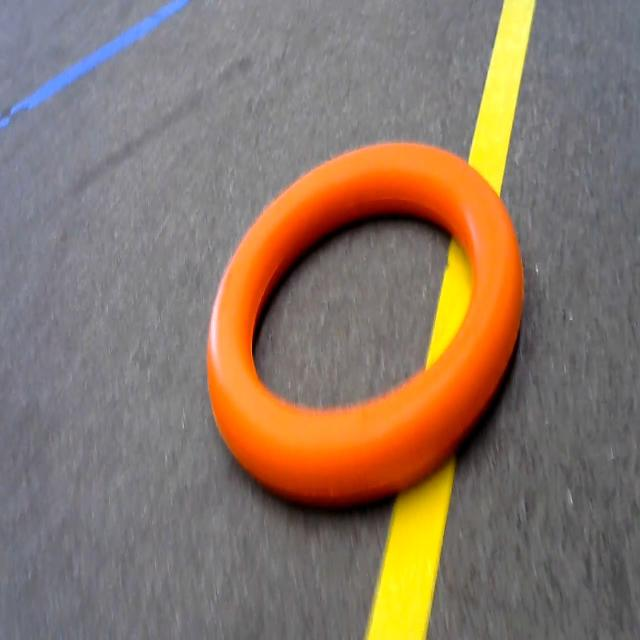note: (190, 130, 558, 528)
